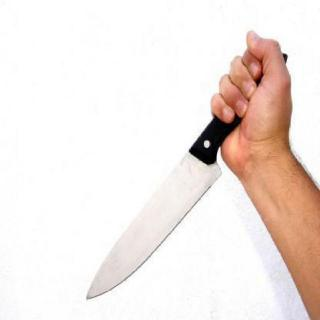knife: (81, 28, 278, 305)
